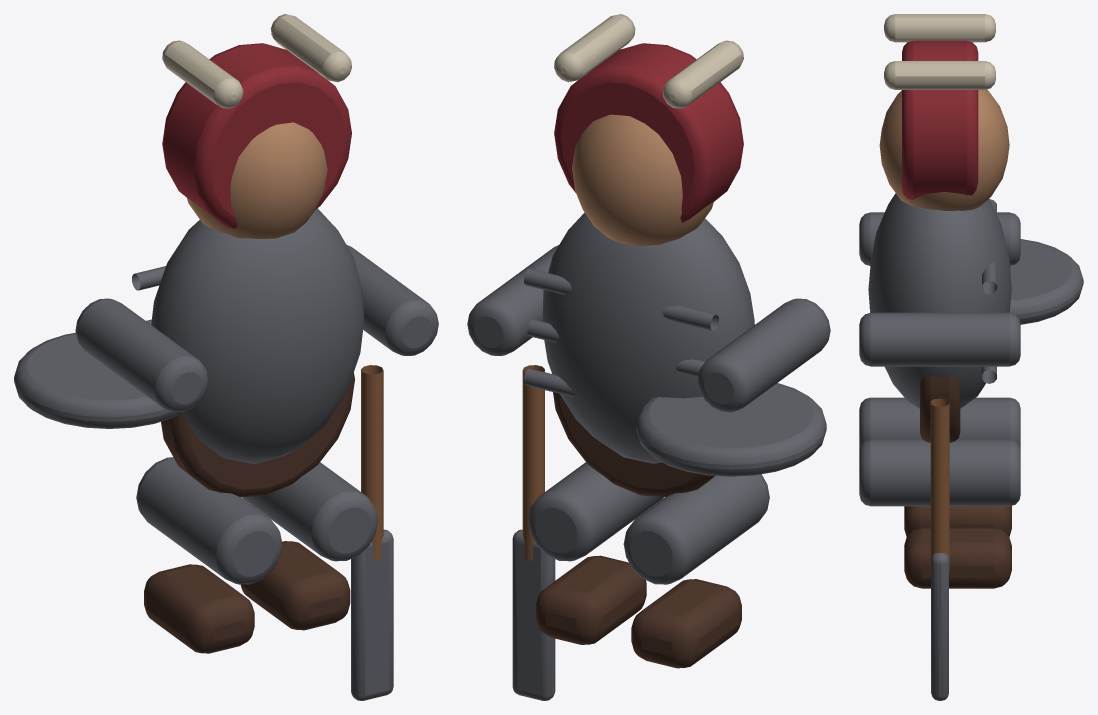
The model's file is brute.glb.
3 renders of one model, left to right at view 1: azimuth 30°, elevation 25°; view 2: azimuth 150°, elevation 25°; view 3: azimuth 270°, elevation 25°, orthographic. The views are drawn at different scales.
Visible parts, largest first — view 1: TorsoMesh, Hood, LeftLegMesh, Head, Shield, LeftArmMesh, RightLegMesh, LeftLegBoot, Belt, Blade, RightLegBoot, RightArmMesh (+3 smaller); view 2: TorsoMesh, Hood, Shield, Head, LeftLegMesh, LeftArmMesh, RightLegMesh, LeftLegBoot, RightLegBoot, Blade, RightArmMesh, Belt (+6 smaller); view 3: TorsoMesh, RightLegMesh, Hood, RightArmMesh, Head, RightLegBoot, LeftLegMesh, Shield, Horn.001, WeaponHandle, Horn, Blade (+4 smaller).
Boxes of the visible parts, x1,y1,x2,y2 form: TorsoMesh: (151,208,364,463); Hood: (162,43,351,229); LeftLegMesh: (136,457,282,584); Head: (186,122,327,238); Shield: (14,332,180,428); LeftArmMesh: (75,298,208,412); RightLegMesh: (242,462,377,561); LeftLegBoot: (144,564,254,653); Belt: (161,372,354,497); Blade: (351,529,393,700); RightLegBoot: (240,541,350,630); RightArmMesh: (347,245,438,355); TorsoMesh: (543,212,754,463); Hood: (554,43,743,222); Shield: (636,383,826,476); Head: (572,114,713,246); LeftLegMesh: (623,474,769,584); LeftArmMesh: (697,298,830,412); RightLegMesh: (528,462,663,561); LeftLegBoot: (631,579,741,668); RightLegBoot: (536,555,646,644); Blade: (512,529,555,700); RightArmMesh: (467,245,558,355); Belt: (553,392,714,497); TorsoMesh: (868,193,1011,408); RightLegMesh: (859,439,1020,506); Hood: (902,40,978,199); RightArmMesh: (859,312,1020,366); Head: (879,89,1009,210); RightLegBoot: (904,527,1011,588); LeftLegMesh: (859,397,1020,449); Shield: (1009,239,1083,324); Horn.001: (884,61,995,89); WeaponHandle: (930,398,949,570); Horn: (884,14,995,42); Blade: (931,553,948,700).
Size of the model in its own units: 1.87 by 3.58 by 1.2.
